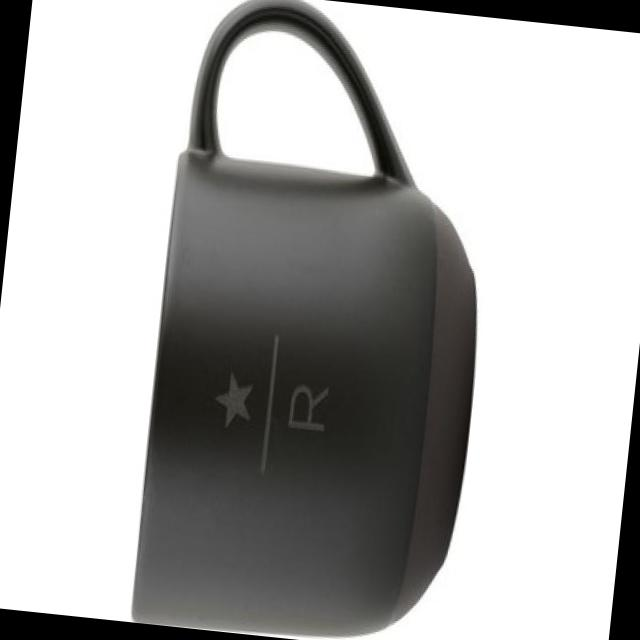Coffee Mug: (126, 0, 515, 640)
